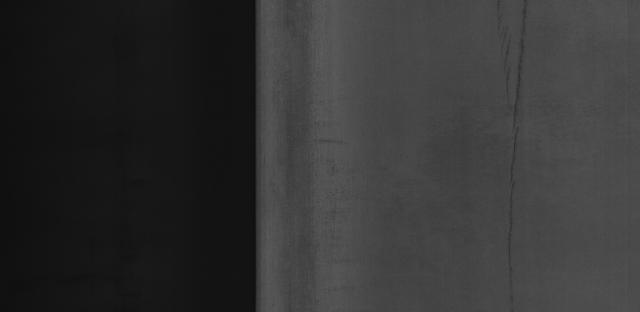inclusion: (491, 1, 532, 305)
